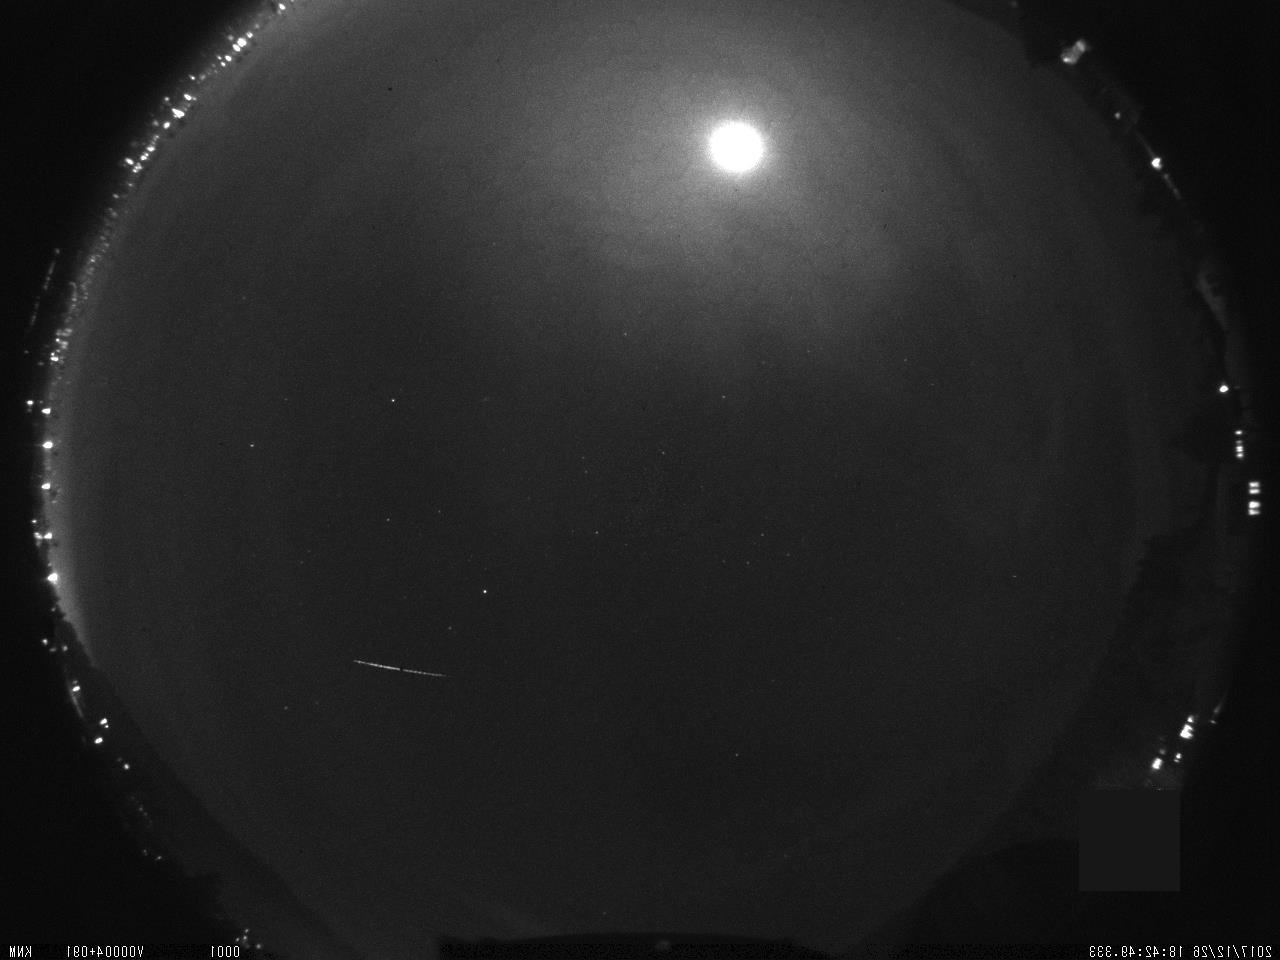meteor: (328, 650, 471, 688)
